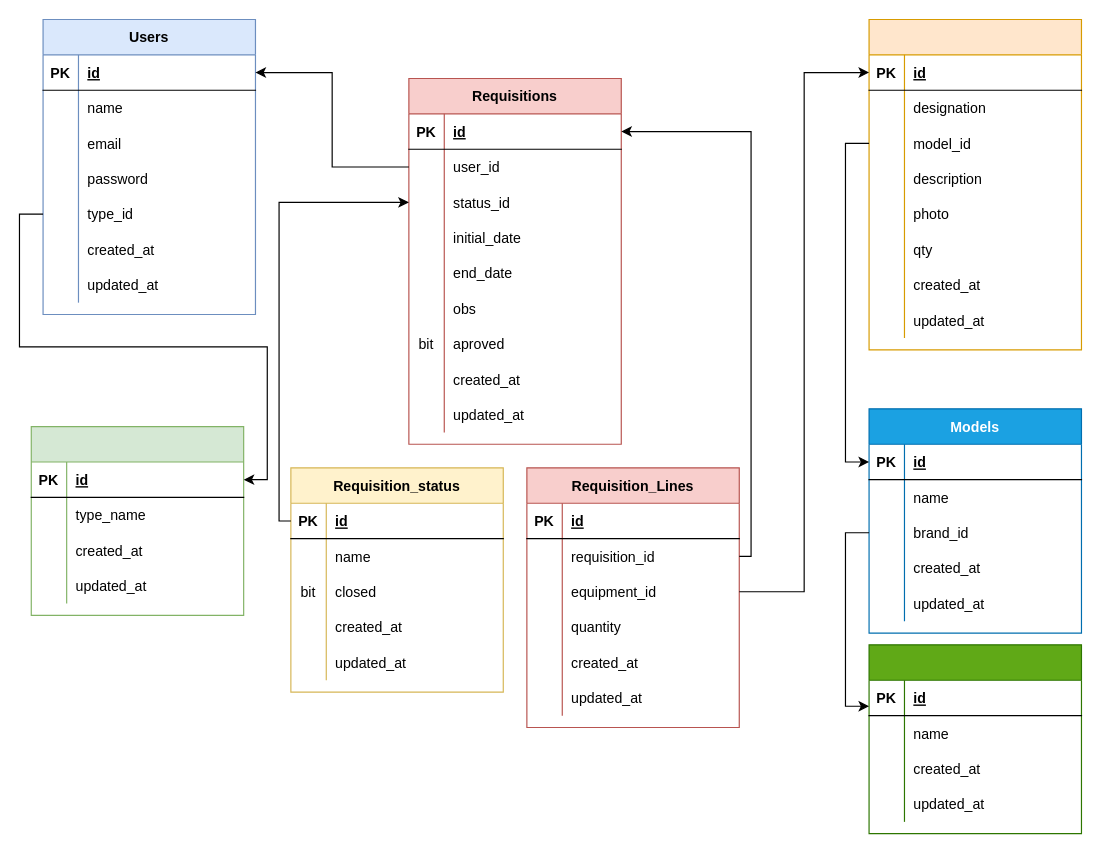
Image size: 1101x853. Some labels were removed from this diagram. The shapes that lost their labels are listed below. From the top down, each one's box as (x1, y1, x2, y2) in pixels, then its label:
(868, 18, 1081, 350): Equipments
(30, 425, 244, 615): User_Types
(868, 644, 1081, 834): Brands
